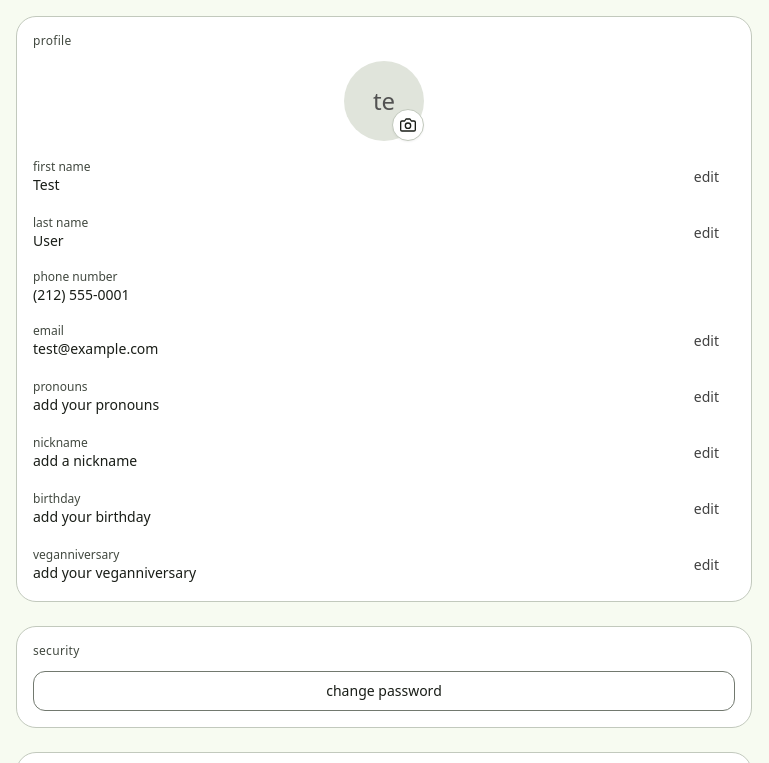
Test: SettingsScreen › shows the veganniversary month/year hint only while editing
Click the button with aria-label "edit veganniversary" at (706, 565), box [678,545,735,585]
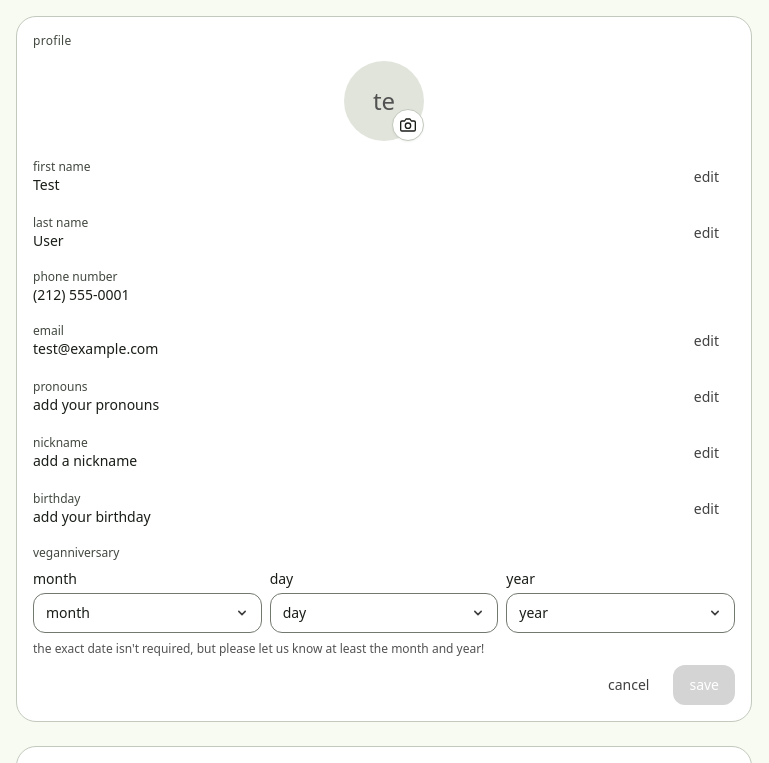
Expected: the text "the exact date isn't required, but please let us know at least the month and year" is shown, [33,640,484,657]
